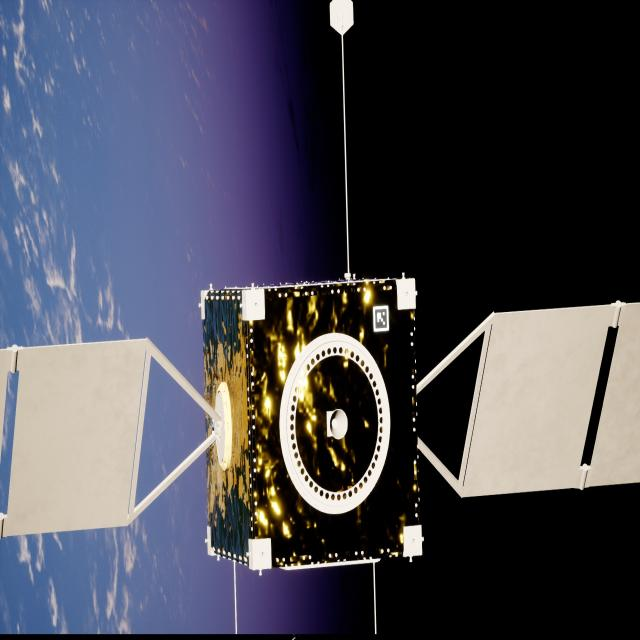medium_debris: (0, 278, 640, 571)
